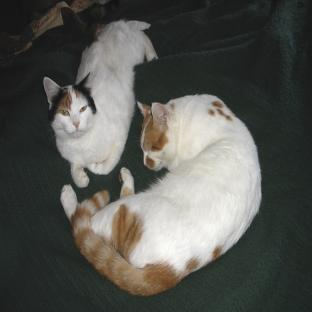Animal: (61, 94, 261, 295), (44, 20, 158, 187)
